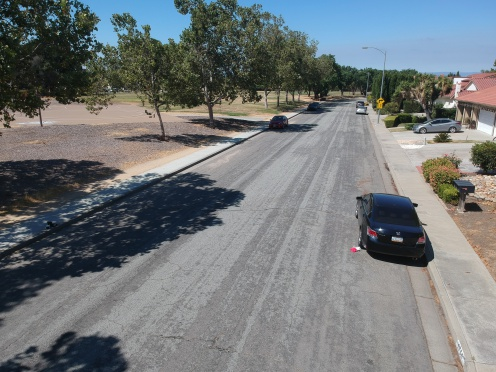plastic bag: (344, 242, 363, 255)
